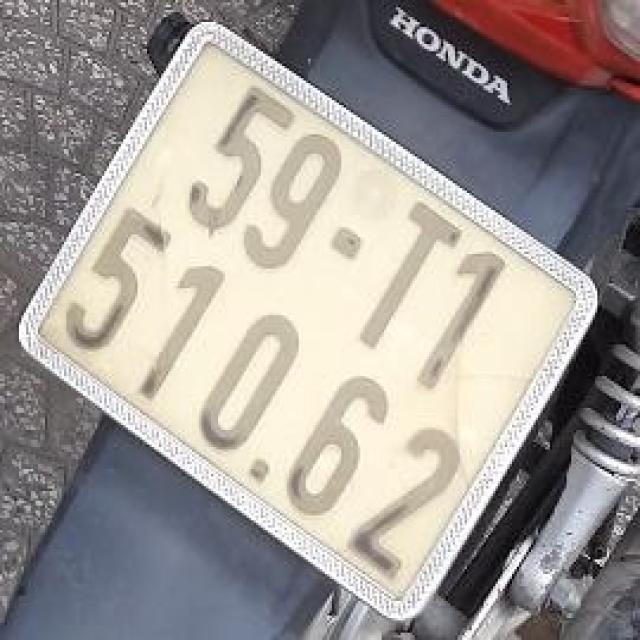0: (189, 293, 327, 472)
1: (110, 238, 250, 429), (393, 231, 534, 411)
2: (328, 401, 491, 603)
5: (25, 192, 197, 389), (166, 64, 309, 252)
6: (259, 348, 413, 544)
9: (219, 111, 380, 294)
T: (343, 176, 478, 370)
